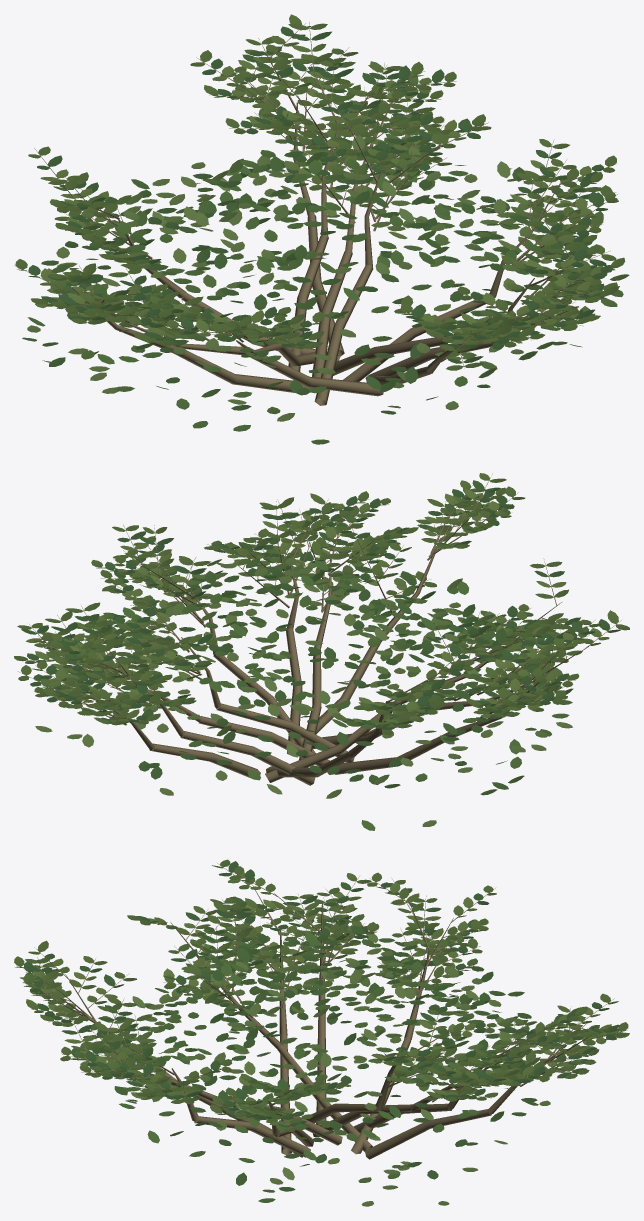
File: LentisqueRampant_2_High.fbx
3 views of the same model, one above another, from view 1: azimuth 30°, elevation 25°; view 2: azimuth 150°, elevation 25°; view 3: azimuth 270°, elevation 25° (orthographic). The views are drawn at different scales.
Parts seen in each view (by area): view 1: LentisqueRampant_2_High; view 2: LentisqueRampant_2_High; view 3: LentisqueRampant_2_High.
Boxes of the visible parts, x1,y1,x2,y2 form: LentisqueRampant_2_High: [14, 14, 629, 444]; LentisqueRampant_2_High: [14, 473, 629, 830]; LentisqueRampant_2_High: [14, 859, 629, 1206].
Bounding box in the file's own units: 238 × 88.56 × 266.
